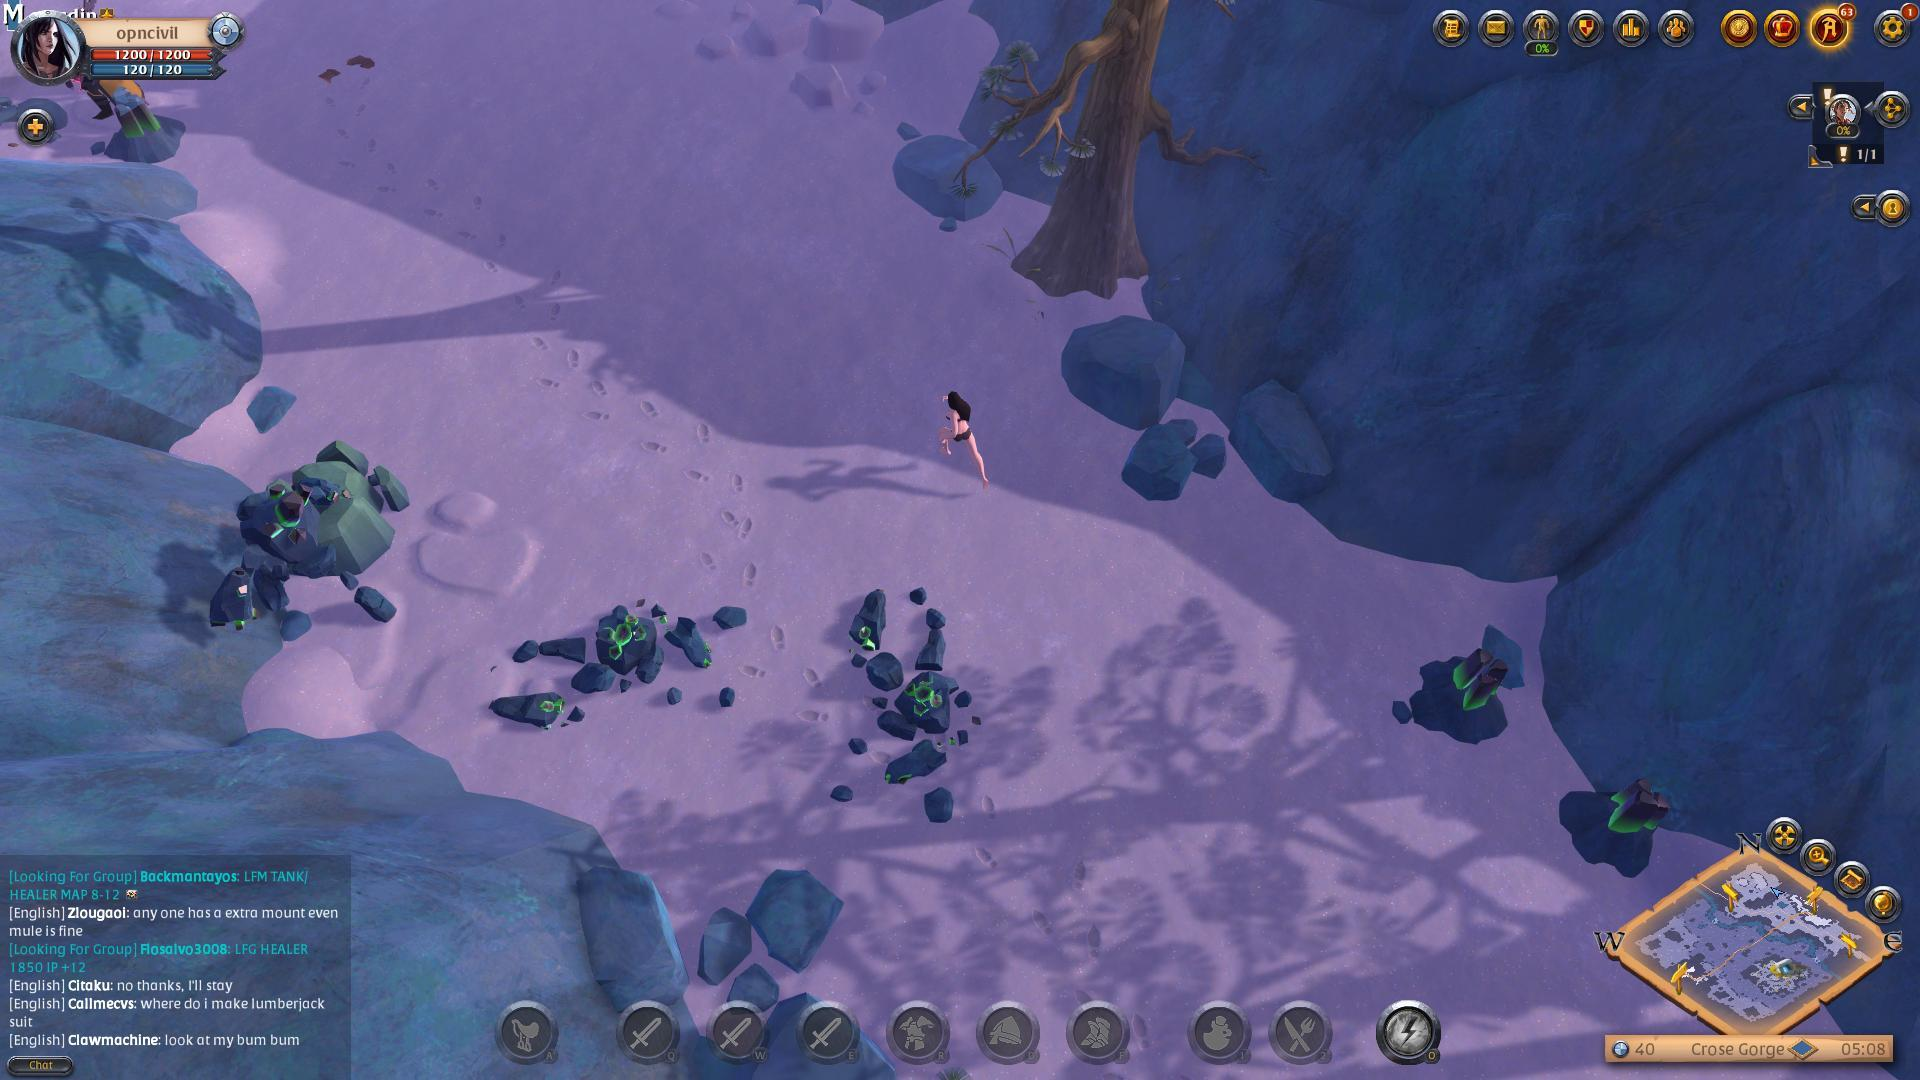sandstone: (257, 426, 411, 584)
tin_ore: (1553, 758, 1683, 891), (1407, 633, 1516, 754)
